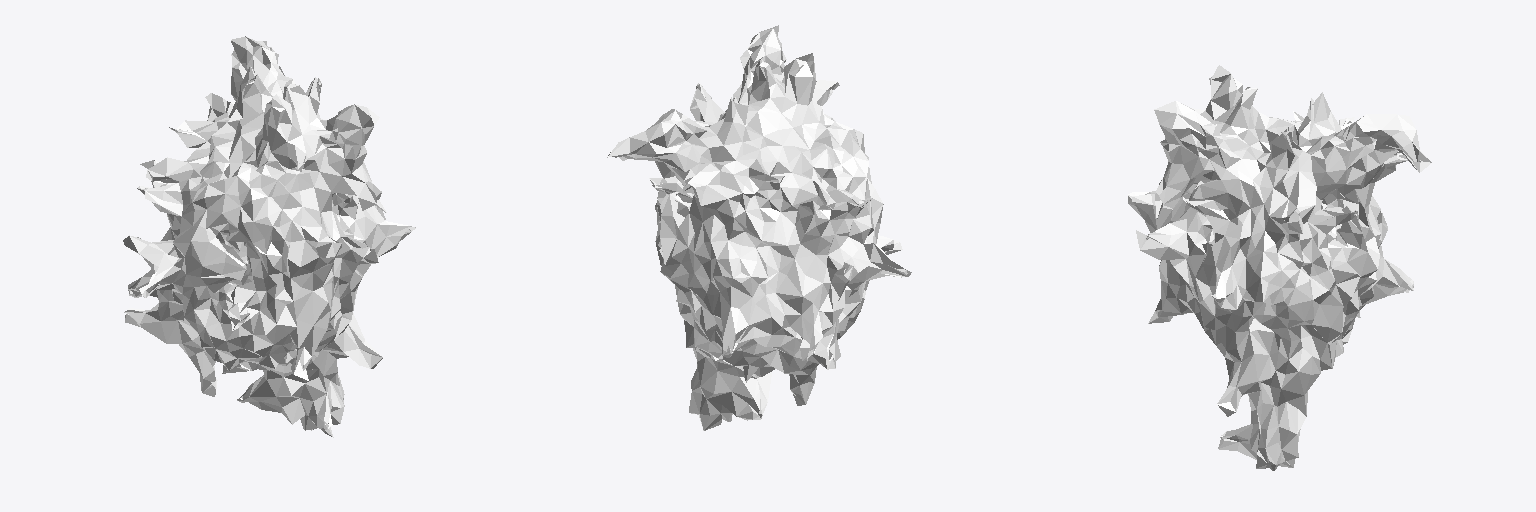
File: weird_01.obj
3 renders of one model, left to right at view 1: azimuth 30°, elevation 25°; view 2: azimuth 150°, elevation 25°; view 3: azimuth 270°, elevation 25°, orthographic.
Visible parts, largest first — view 1: icosahedron1; view 2: icosahedron1; view 3: icosahedron1.
Part boxes in pixels (left/top/right/bottom): icosahedron1: left=123, top=36, right=415, bottom=437; icosahedron1: left=607, top=25, right=911, bottom=430; icosahedron1: left=1128, top=65, right=1431, bottom=470.
Bounding box in the file's own units: 4.42 × 6.04 × 4.52.